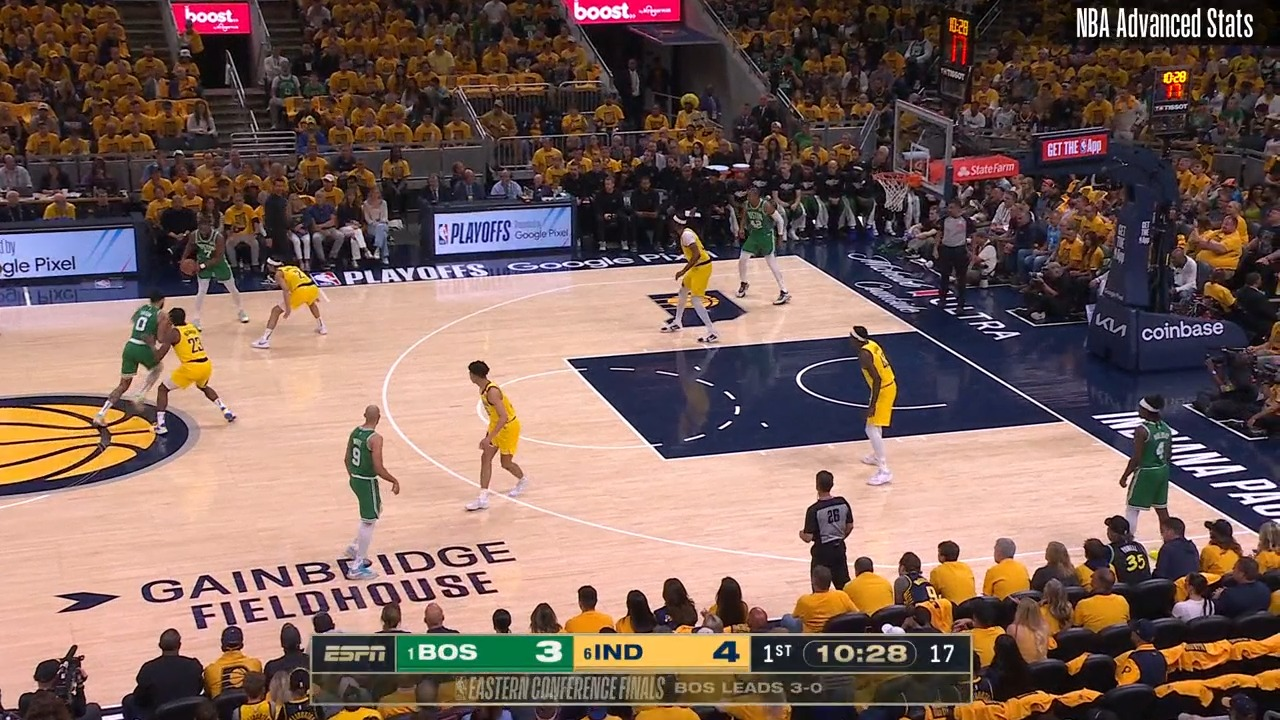basketball: (176, 253, 201, 278)
